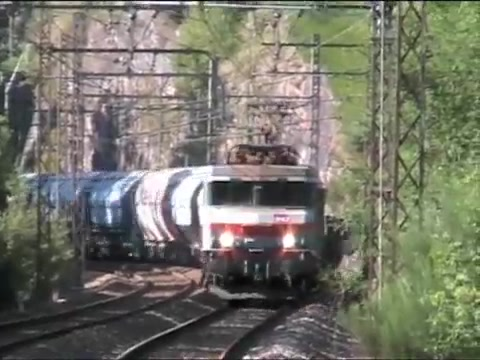train: (10, 144, 330, 294)
